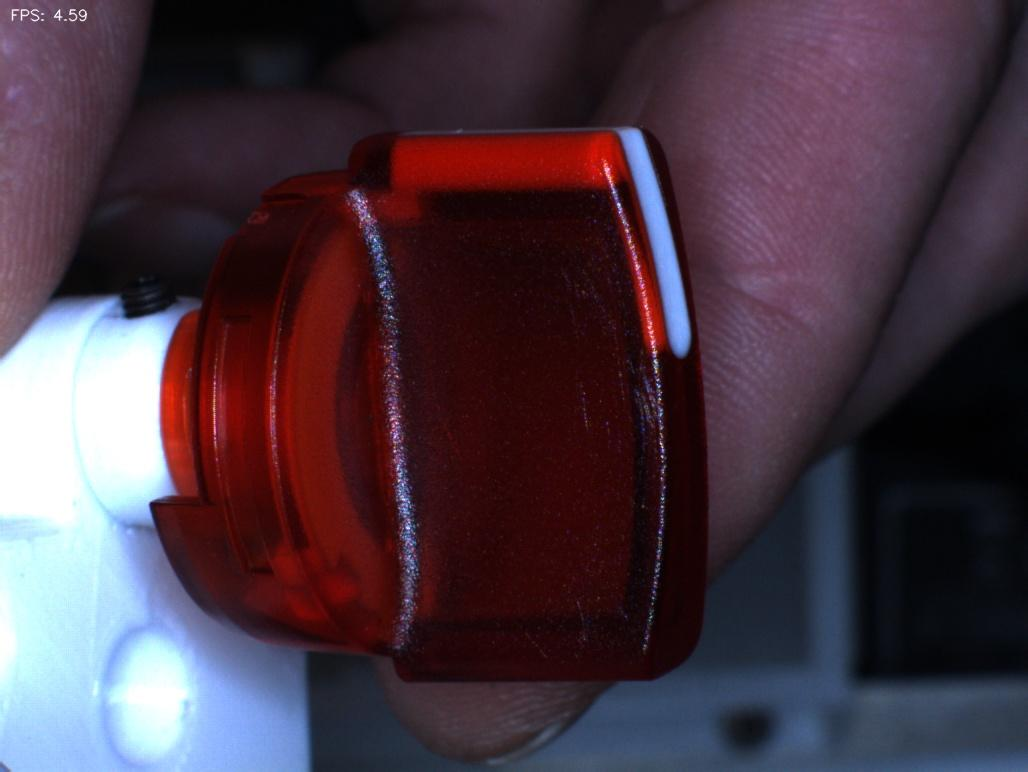Givrage: (559, 266, 667, 470)
